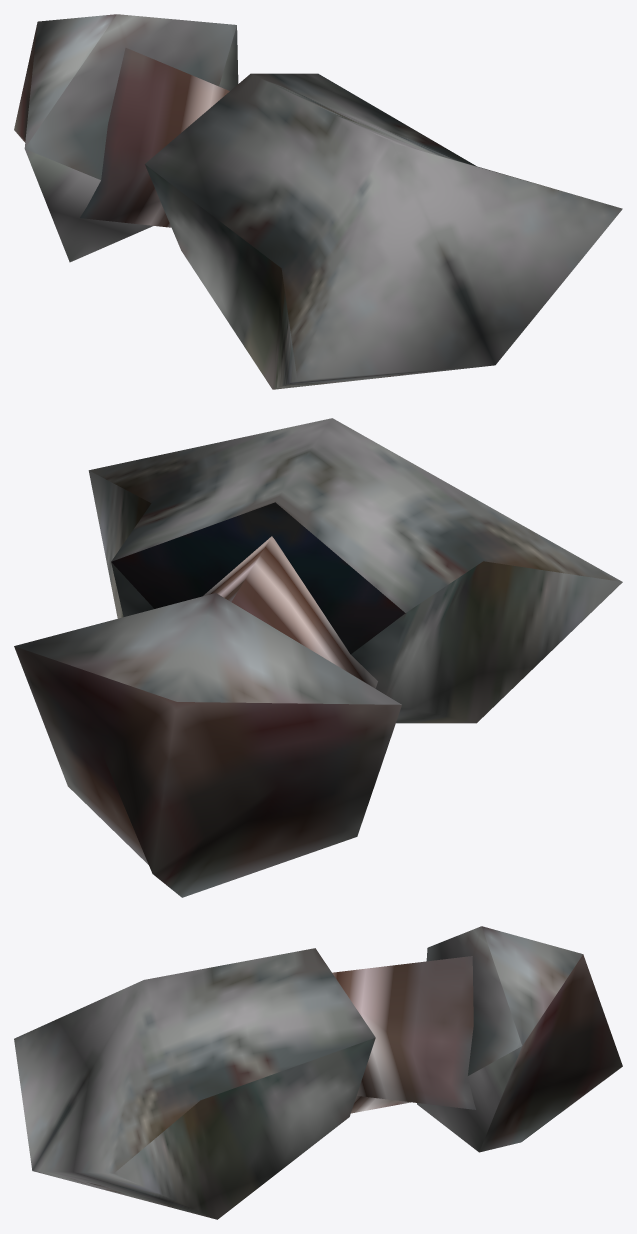
File: poi_repairdroidtorso_l2.fbx
The picture shows the model from 3 angles, top to bottom: view 1: azimuth 30°, elevation 25°; view 2: azimuth 150°, elevation 25°; view 3: azimuth 270°, elevation 25°; orthographic projection. The views are drawn at different scales.
Visible parts, largest first — view 1: mesh_node; view 2: mesh_node; view 3: mesh_node.
Boxes of the visible parts, x1=… form: mesh_node: x1=14, y1=14, x2=622, y2=389; mesh_node: x1=14, y1=418, x2=622, y2=897; mesh_node: x1=14, y1=926, x2=622, y2=1219.
Size of the model in its own units: 0.4133 by 0.2165 by 0.5591.
